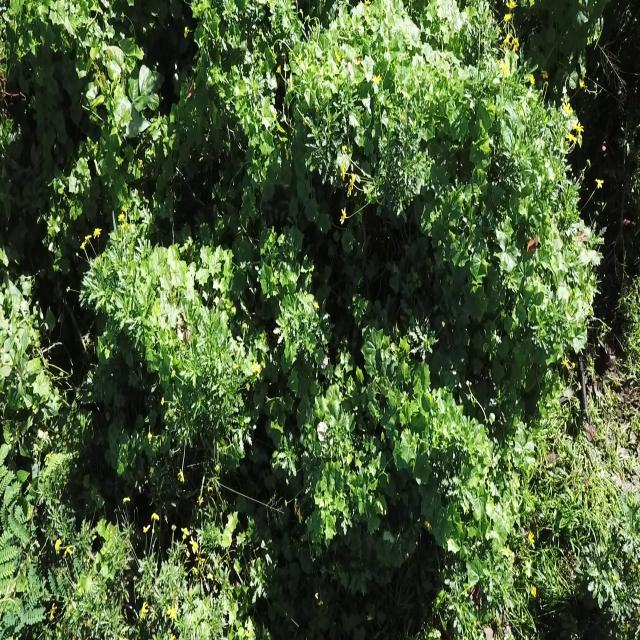Mysore-Thorn-Weed: (0, 445, 78, 640)
